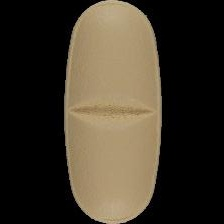45865-846: (0, 0, 224, 224)
